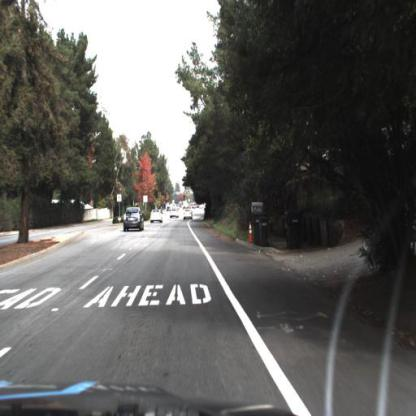car: (122, 206, 146, 235), (181, 202, 197, 224), (149, 206, 163, 228), (170, 206, 181, 222)
